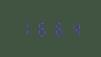four: (66, 20, 81, 37)
one: (18, 19, 33, 36)
six: (34, 19, 49, 36), (50, 20, 65, 37)
